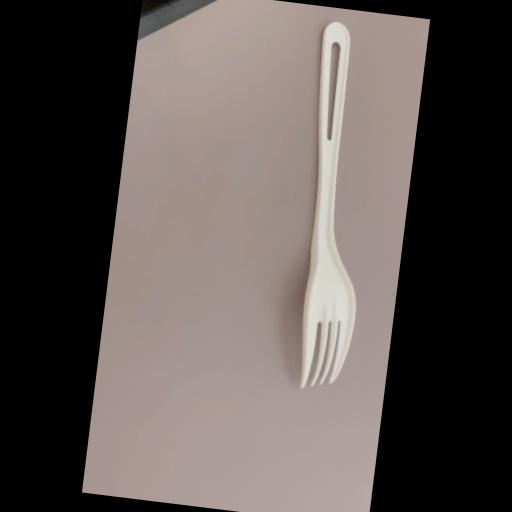utensil: (280, 14, 394, 395)
